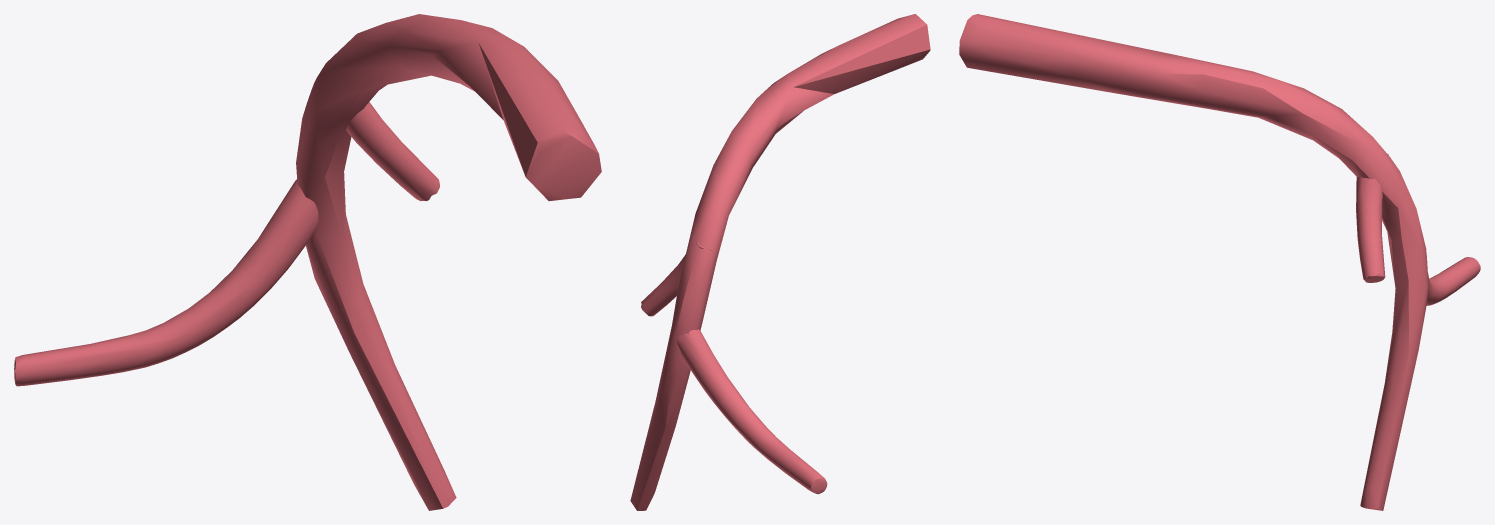
File: fma68706_cx184.glb
The picture shows the model from 3 angles, left to right: view 1: azimuth 30°, elevation 25°; view 2: azimuth 150°, elevation 25°; view 3: azimuth 270°, elevation 25°; orthographic projection. The views are drawn at different scales.
Parts seen in each view (by area): view 1: FMA68706_CX184; view 2: FMA68706_CX184; view 3: FMA68706_CX184.
Boxes of the visible parts, box(x1,y1,x2,y2) form: FMA68706_CX184: box(14, 14, 601, 510); FMA68706_CX184: box(630, 14, 930, 510); FMA68706_CX184: box(959, 14, 1480, 510).
Bounding box in the file's own units: 0.0248 × 0.0394 × 0.0421.
